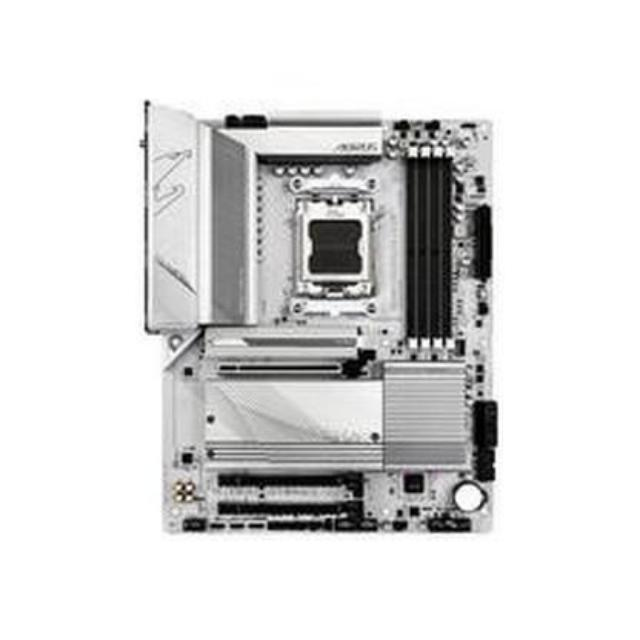Mainboard: (131, 80, 506, 540)
